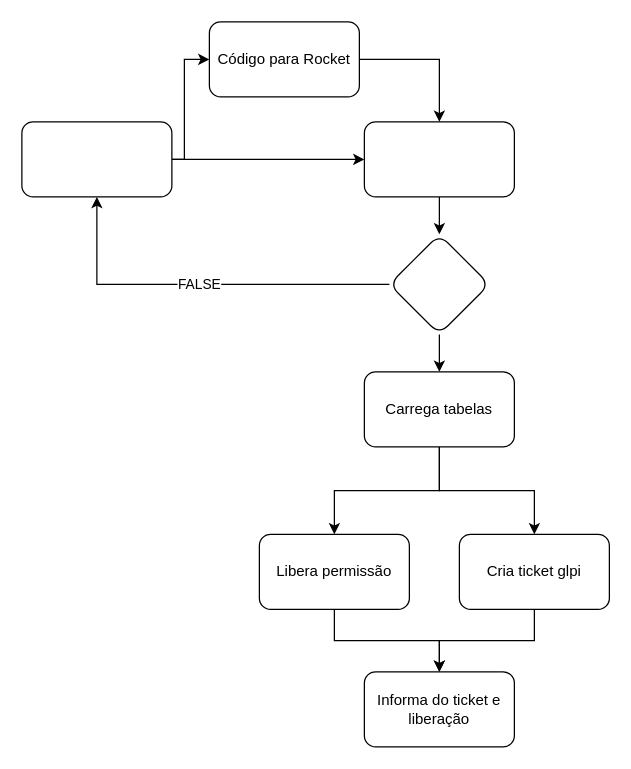
Image size: 631x769. Some labels were removed from this diagram. Here are the shapes that lost their labels. From the top down, the centre of each, then its label:
At pixel 96 159: "Form Usuário".
At pixel 438 159: "Form Senha".
At pixel 438 283: "Senha oK".
